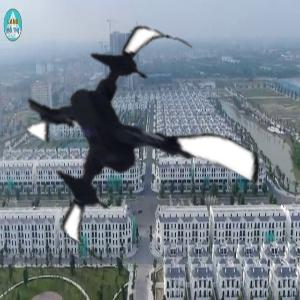drone: (14, 22, 265, 273)
